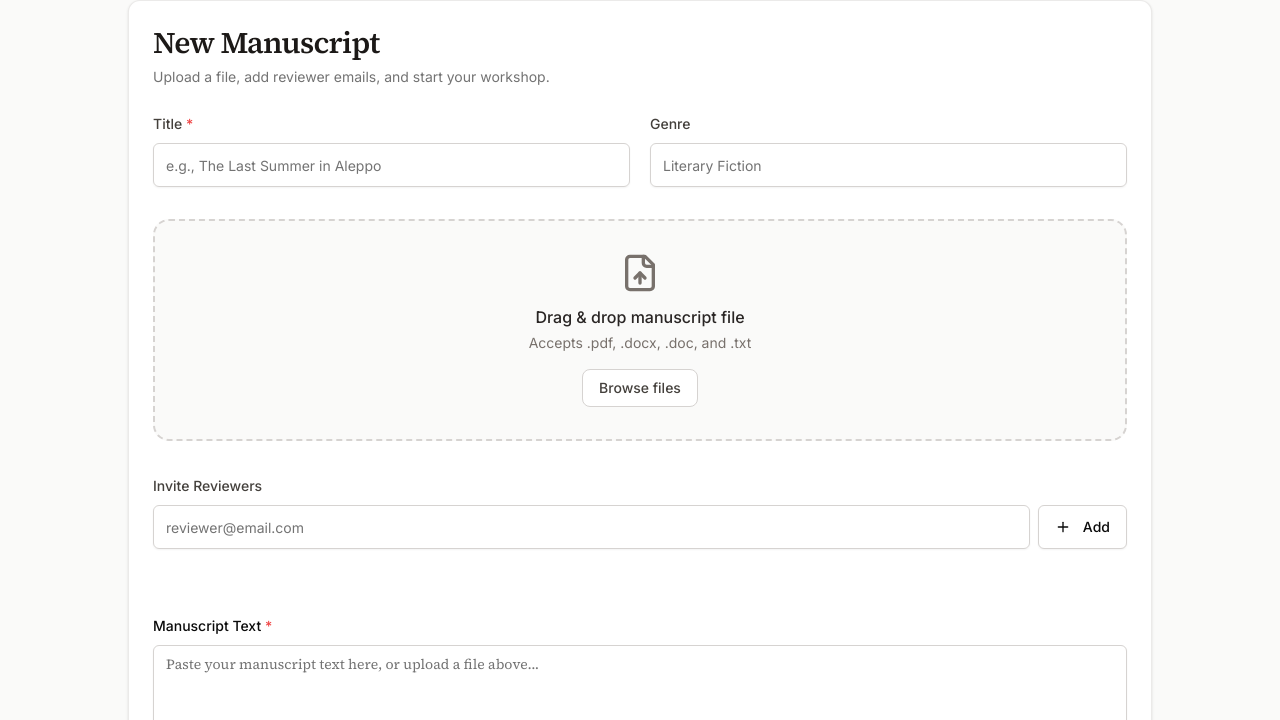
it: Upload page › adds and removes invited reviewer emails
Type "reader@example.com" into the field labelled "Invite Reviewers" at (591, 527), box 153,505 -> 1030,549
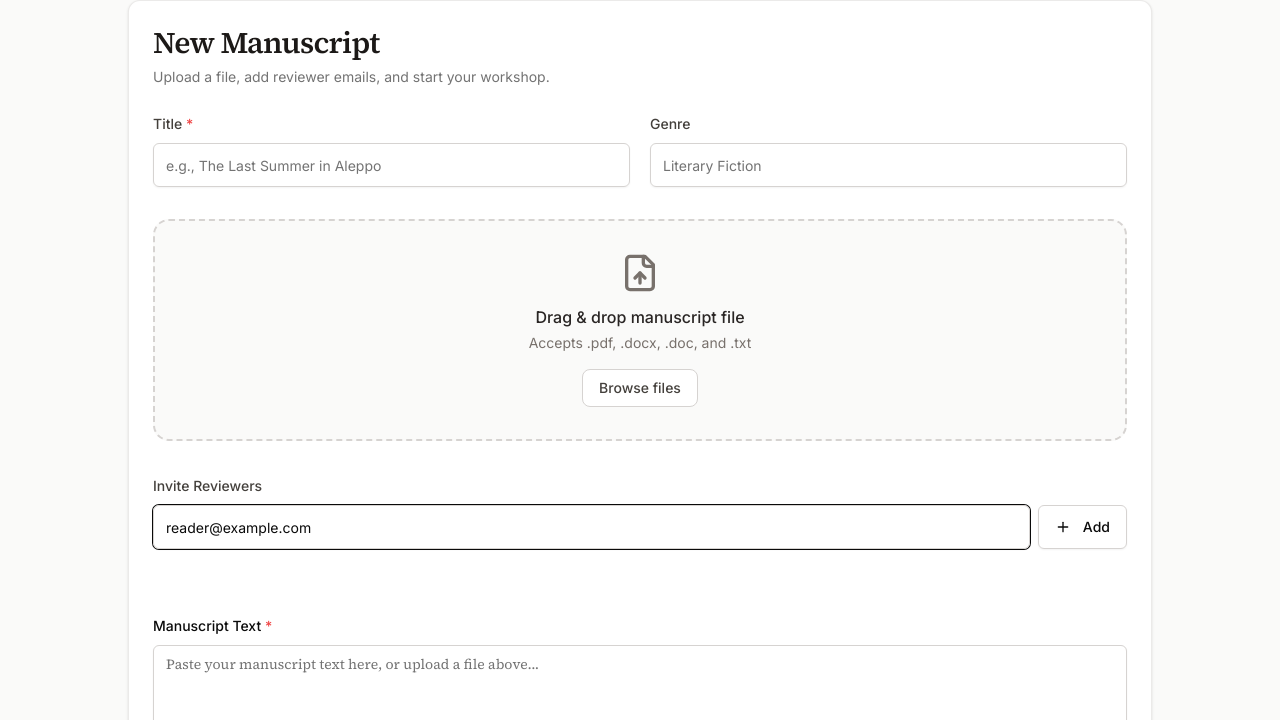
Click the button "Add" at (1082, 527), box 1038,505 -> 1127,549
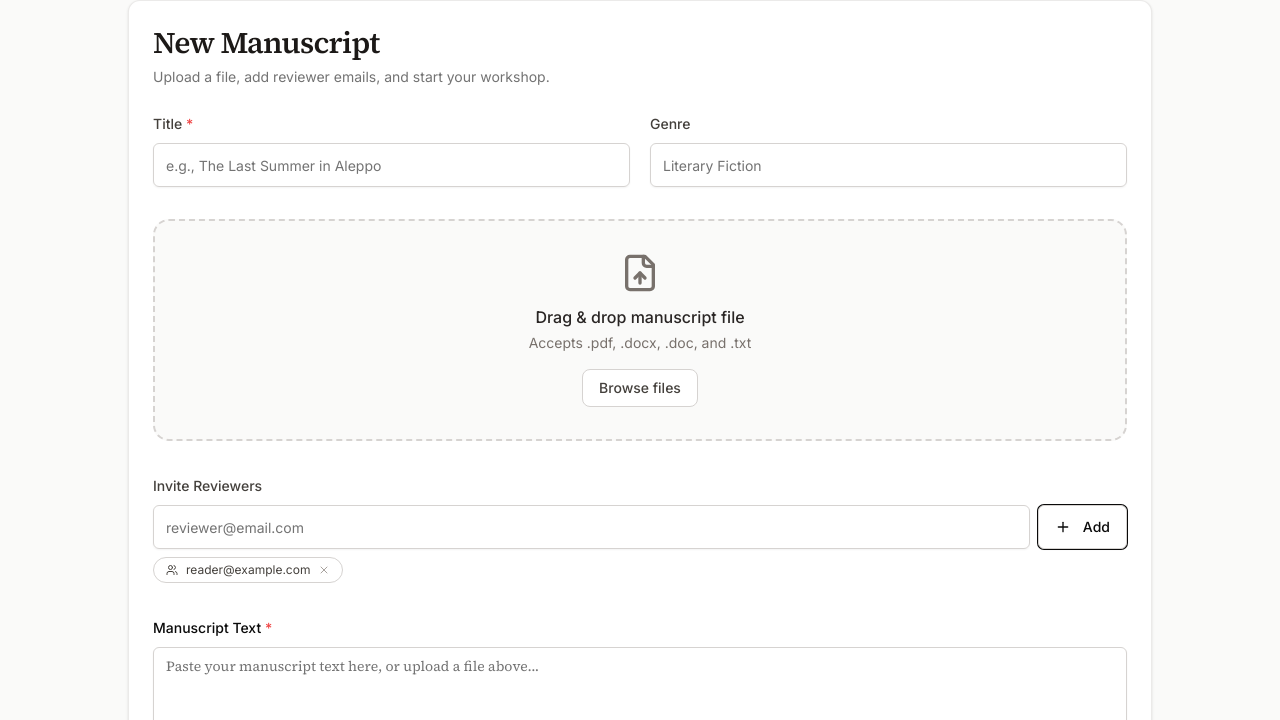
Check: the text "reader@example.com" is shown, box 153,557 -> 343,583
Click the button named "remove reader@example.com" at (324, 570), box 318,564 -> 330,576
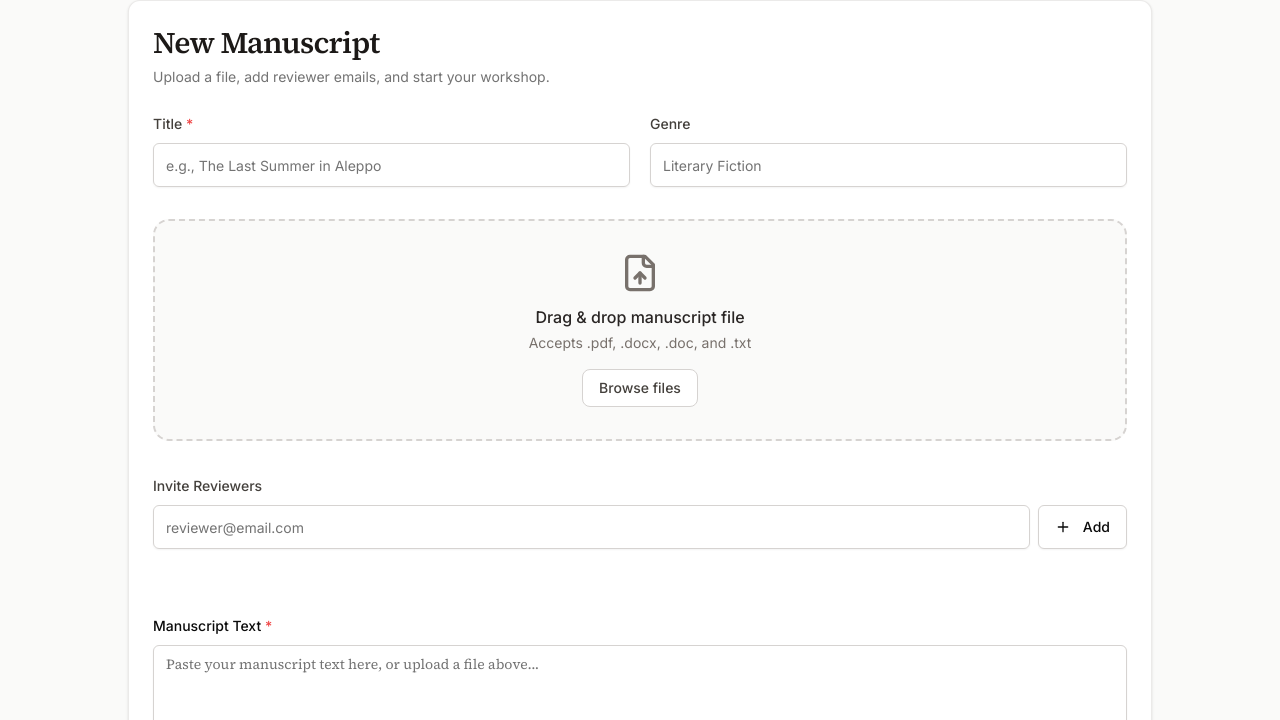
Check: the text "reader@example.com" is gone
